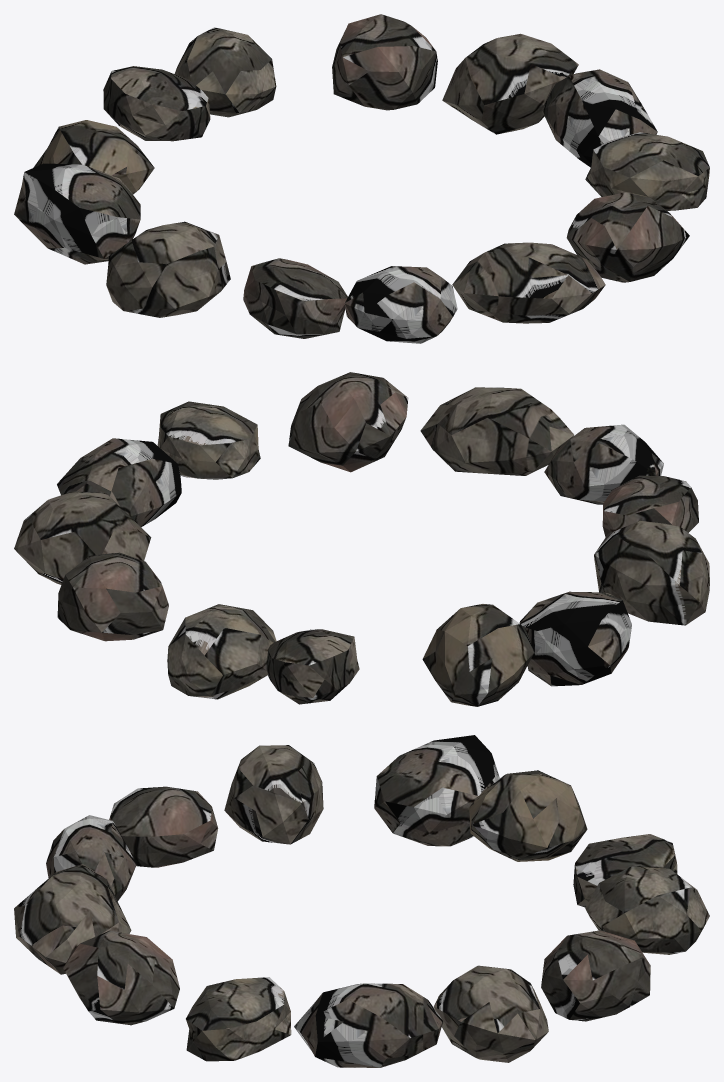
The model's file is vong-da-lua.glb.
The picture shows the model from 3 angles, top to bottom: view 1: azimuth 30°, elevation 25°; view 2: azimuth 150°, elevation 25°; view 3: azimuth 270°, elevation 25°; orthographic projection. The views are drawn at different scales.
Parts seen in each view (by area): view 1: Icosphere; view 2: Icosphere; view 3: Icosphere.
Part boxes in pixels (<box>): Icosphere: <box>14,14,709,343</box>; Icosphere: <box>14,372,709,706</box>; Icosphere: <box>14,735,709,1067</box>.
Size of the model in its own units: 1.21 by 0.1797 by 1.28.
Materials: 1 (1 with a texture image).
